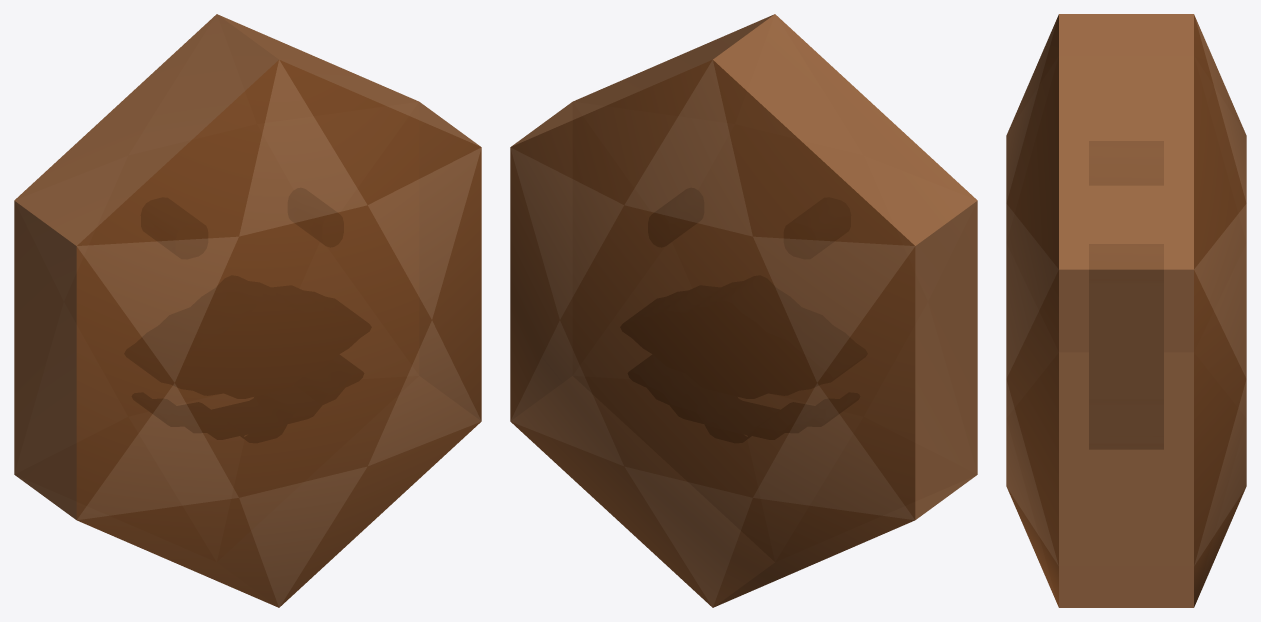
3 renders of one model, left to right at view 1: azimuth 30°, elevation 25°; view 2: azimuth 150°, elevation 25°; view 3: azimuth 270°, elevation 25°, orthographic. The views are drawn at different scales.
Parts seen in each view (by area): view 1: body; view 2: body; view 3: body.
Boxes of the visible parts, x1,y1,x2,y2 form: body: (14, 14, 481, 607); body: (510, 14, 977, 607); body: (1006, 14, 1246, 607).
Size of the model in its own units: 0.1933 by 0.25 by 0.0916.
2 materials, 2 textured.
